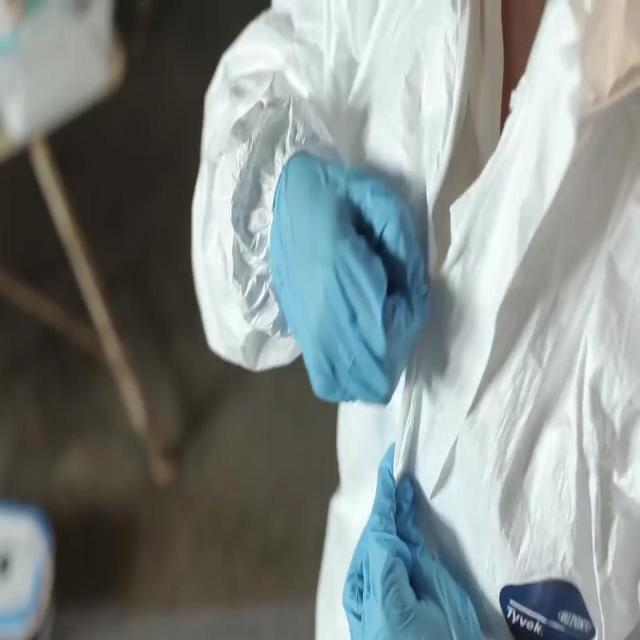Gloves: (260, 140, 432, 420), (337, 454, 481, 639)
